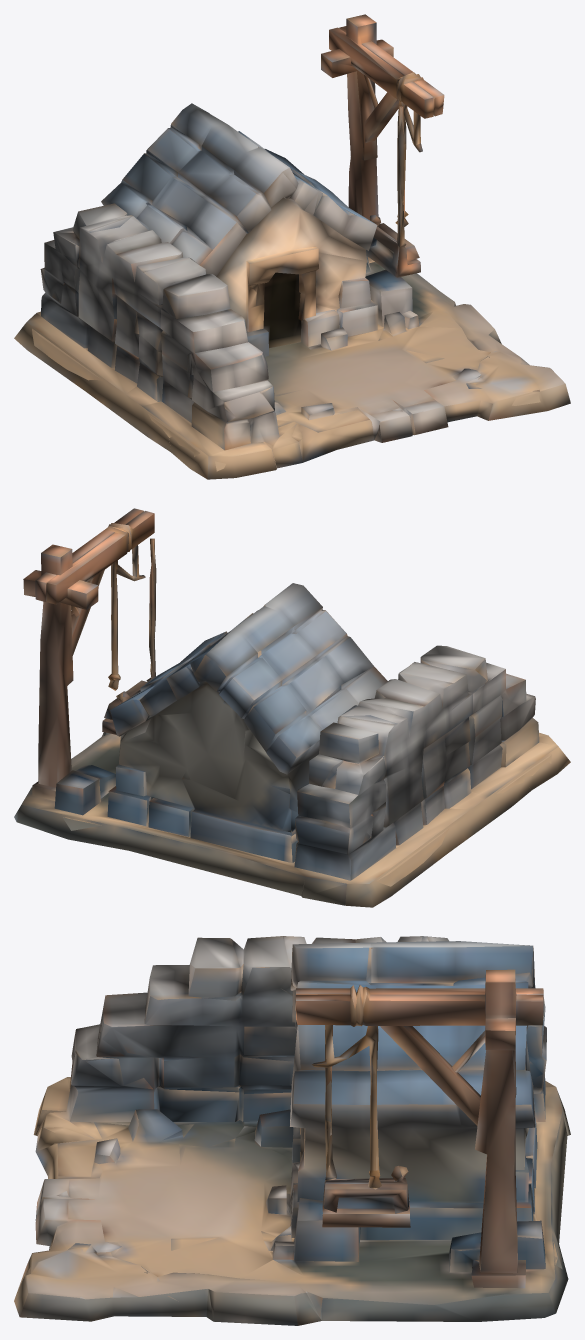
Rendered from ocak.glb.
The picture shows the model from 3 angles, top to bottom: view 1: azimuth 30°, elevation 25°; view 2: azimuth 150°, elevation 25°; view 3: azimuth 270°, elevation 25°; orthographic projection. The views are drawn at different scales.
Visible parts, largest first — view 1: node_0; view 2: node_0; view 3: node_0.
Part boxes in pixels (<box>): node_0: <box>14,14,570,479</box>; node_0: <box>14,508,570,907</box>; node_0: <box>14,936,570,1325</box>.
Bounding box in the file's own units: 0.7896 × 0.5198 × 0.8025.
Materials: 1 (1 with a texture image).
